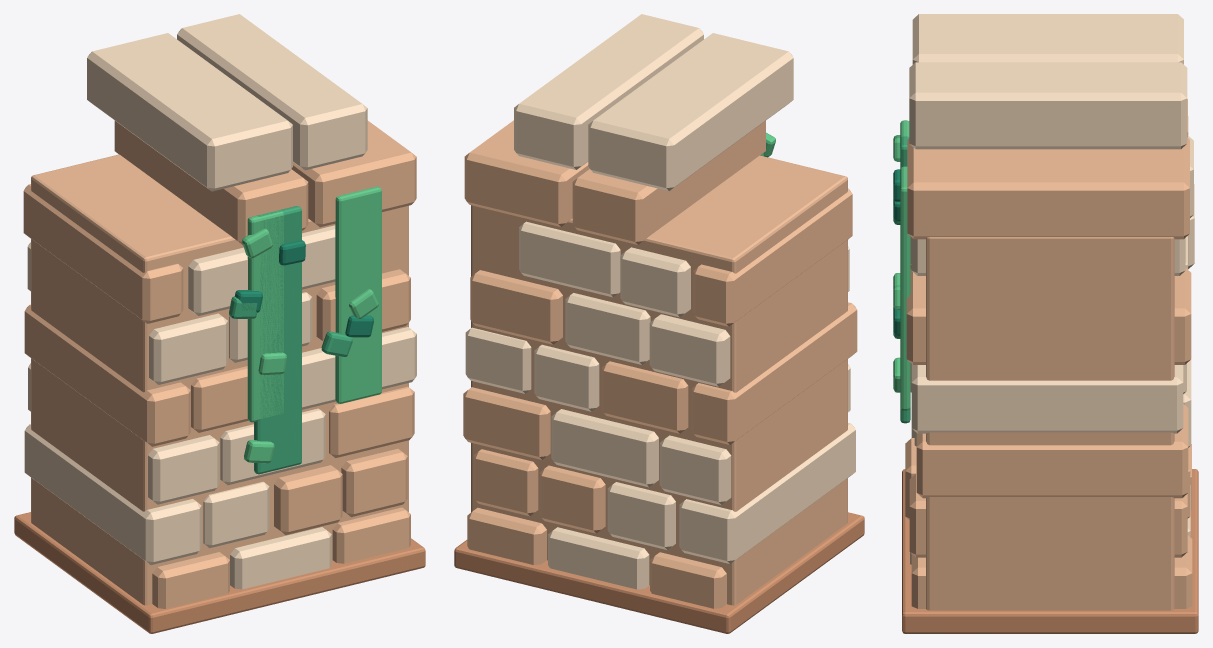
Rendered from ruin-wall-broken.glb.
3 renders of one model, left to right at view 1: azimuth 30°, elevation 25°; view 2: azimuth 150°, elevation 25°; view 3: azimuth 270°, elevation 25°, orthographic. The views are drawn at different scales.
Visible parts, largest first — view 1: ruin-wall-broken; view 2: ruin-wall-broken; view 3: ruin-wall-broken.
Boxes of the visible parts, left/top/right/bottom form: ruin-wall-broken: left=14, top=14, right=425, bottom=633; ruin-wall-broken: left=454, top=14, right=864, bottom=633; ruin-wall-broken: left=893, top=14, right=1198, bottom=633.
Size of the model in its own units: 1 by 1.64 by 0.885.
Materials: 1 (1 with a texture image).
